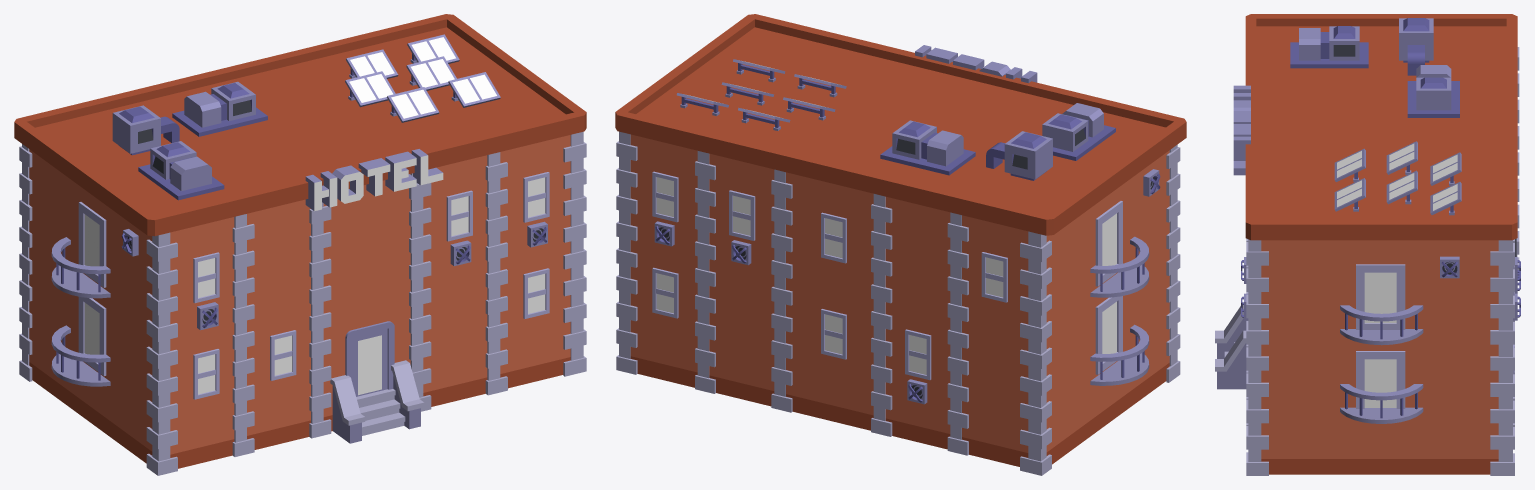
The model's file is hotel.fbx.
The picture shows the model from 3 angles, left to right: view 1: azimuth 30°, elevation 25°; view 2: azimuth 150°, elevation 25°; view 3: azimuth 270°, elevation 25°; orthographic projection.
Parts seen in each view (by area): view 1: mergedBlocks; view 2: mergedBlocks; view 3: mergedBlocks.
Boxes of the visible parts, x1,y1,x2,y2 form: mergedBlocks: (14, 14, 586, 475); mergedBlocks: (615, 14, 1186, 475); mergedBlocks: (1215, 14, 1520, 475).
Size of the model in its own units: 63 by 35.5 by 35.12.
